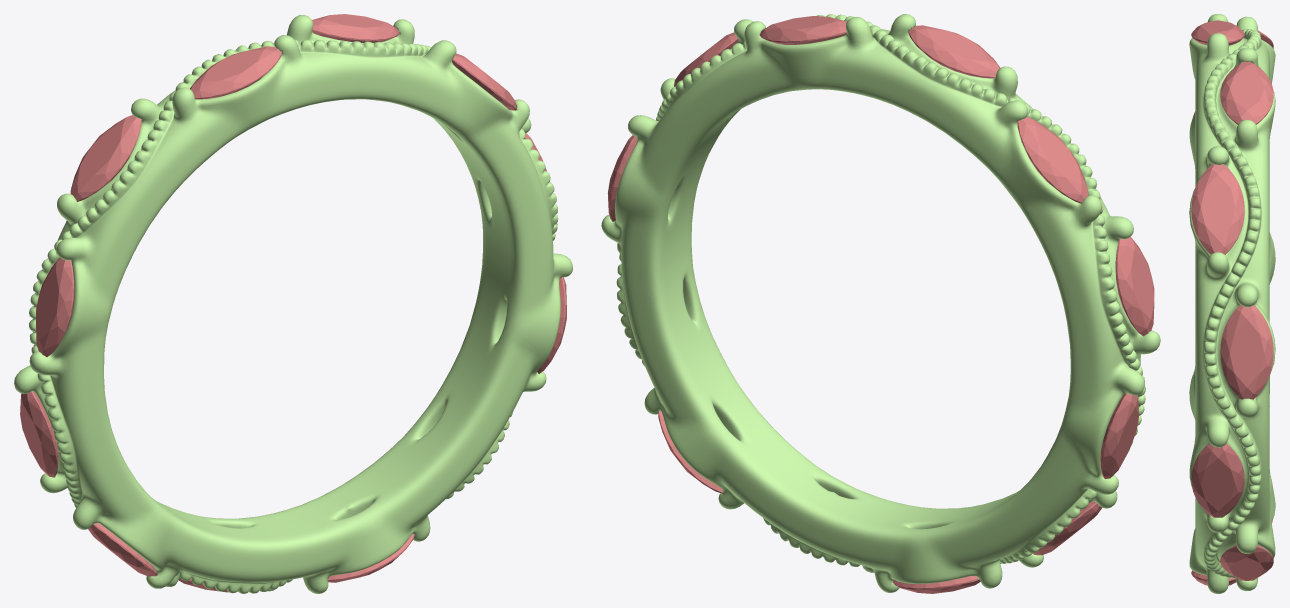
File: BE2D249_RENDER.glb
3 renders of one model, left to right at view 1: azimuth 30°, elevation 25°; view 2: azimuth 150°, elevation 25°; view 3: azimuth 270°, elevation 25°, orthographic. The views are drawn at different scales.
Visible parts, largest first — view 1: Metal03, Diamond_Marquise_Gem_BD.010, Diamond_Marquise_Gem_BD.004, Diamond_Marquise_Gem_BD.005, Diamond_Marquise_Gem_BD.009, Diamond_Marquise_Gem_BD.011, Diamond_Marquise_Gem_BD.003, Diamond_Marquise_Gem_BD; view 2: Metal03, Diamond_Marquise_Gem_BD.010, Diamond_Marquise_Gem_BD.004, Diamond_Marquise_Gem_BD.005, Diamond_Marquise_Gem_BD.009, Diamond_Marquise_Gem_BD.011, Diamond_Marquise_Gem_BD.003, Diamond_Marquise_Gem_BD.008, Diamond_Marquise_Gem_BD.006, Diamond_Marquise_Gem_BD; view 3: Metal03, Diamond_Marquise_Gem_BD.006, Diamond_Marquise_Gem_BD, Diamond_Marquise_Gem_BD.001, Diamond_Marquise_Gem_BD.011, Diamond_Marquise_Gem_BD.007, Diamond_Marquise_Gem_BD.005, Diamond_Marquise_Gem_BD.002.
Boxes of the visible parts, x1,y1,x2,y2 form: Metal03: [14, 15, 572, 593]; Diamond_Marquise_Gem_BD.010: [70, 115, 141, 201]; Diamond_Marquise_Gem_BD.004: [36, 258, 74, 356]; Diamond_Marquise_Gem_BD.005: [190, 46, 282, 99]; Diamond_Marquise_Gem_BD.009: [20, 391, 58, 477]; Diamond_Marquise_Gem_BD.011: [312, 14, 399, 42]; Diamond_Marquise_Gem_BD.003: [88, 523, 157, 576]; Diamond_Marquise_Gem_BD: [452, 53, 516, 110]; Metal03: [601, 14, 1160, 592]; Diamond_Marquise_Gem_BD.010: [1017, 117, 1088, 203]; Diamond_Marquise_Gem_BD.004: [1115, 236, 1154, 336]; Diamond_Marquise_Gem_BD.005: [908, 25, 1000, 78]; Diamond_Marquise_Gem_BD.009: [1100, 393, 1138, 479]; Diamond_Marquise_Gem_BD.011: [759, 16, 846, 44]; Diamond_Marquise_Gem_BD.003: [1033, 501, 1101, 555]; Diamond_Marquise_Gem_BD.008: [892, 576, 980, 593]; Diamond_Marquise_Gem_BD.006: [607, 135, 637, 221]; Diamond_Marquise_Gem_BD: [674, 32, 738, 86]; Metal03: [1189, 14, 1275, 593]; Diamond_Marquise_Gem_BD.006: [1220, 305, 1273, 399]; Diamond_Marquise_Gem_BD: [1191, 164, 1244, 254]; Diamond_Marquise_Gem_BD.001: [1191, 443, 1244, 517]; Diamond_Marquise_Gem_BD.011: [1220, 61, 1273, 124]; Diamond_Marquise_Gem_BD.007: [1220, 545, 1273, 580]; Diamond_Marquise_Gem_BD.005: [1191, 20, 1244, 45]; Diamond_Marquise_Gem_BD.002: [1191, 570, 1236, 585].
Size of the model in its own units: 21.68 by 21.7 by 3.23.
